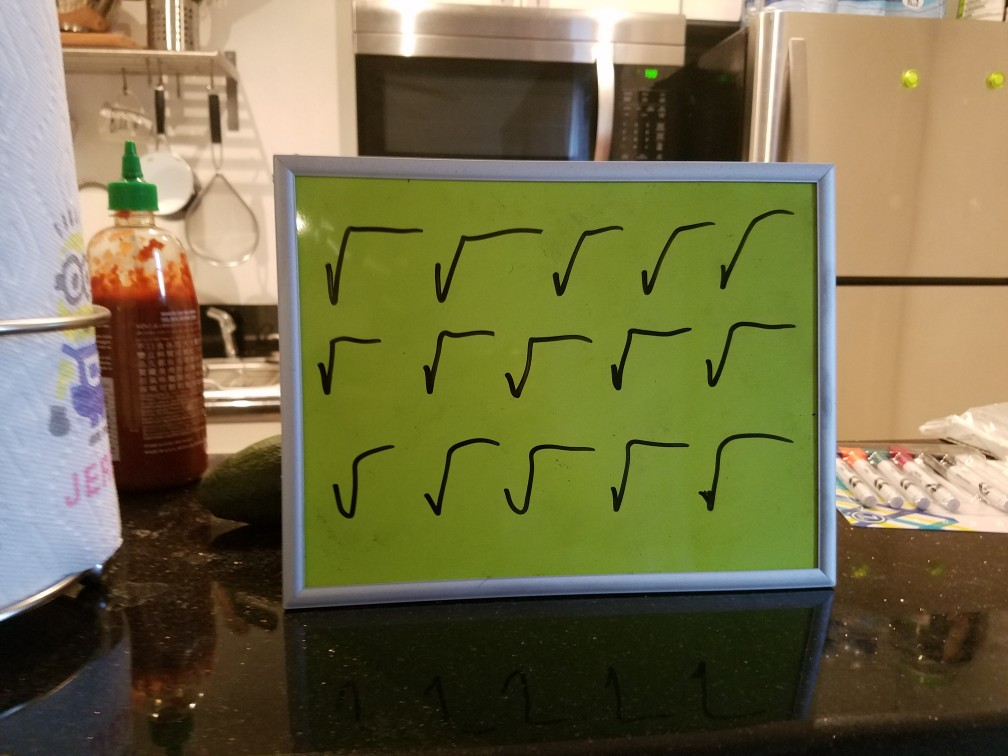sqrt: (698, 417, 801, 533), (426, 216, 534, 321), (529, 201, 633, 307), (311, 209, 420, 309), (505, 424, 597, 532), (605, 429, 694, 533), (422, 427, 505, 532), (506, 322, 598, 415), (601, 315, 695, 406), (716, 199, 801, 299), (400, 323, 494, 411), (699, 316, 799, 398), (312, 445, 401, 523), (304, 321, 381, 409), (639, 213, 713, 299)
